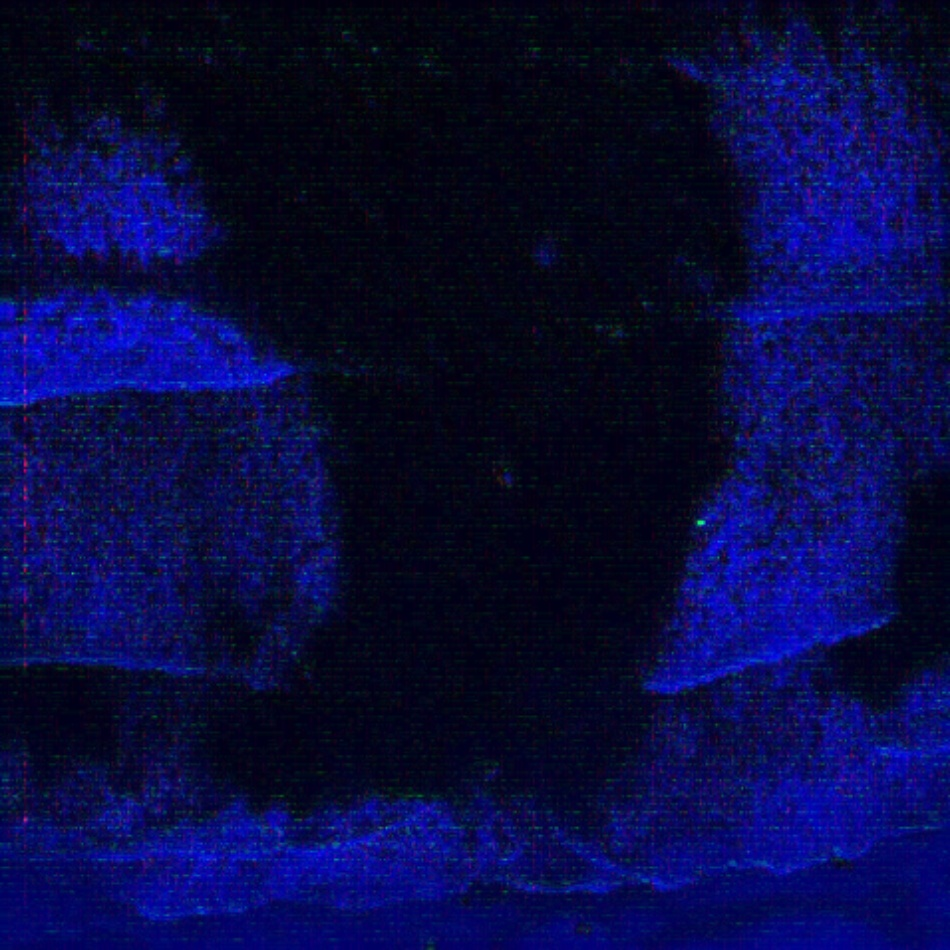rip_current: (119, 192, 820, 767)
